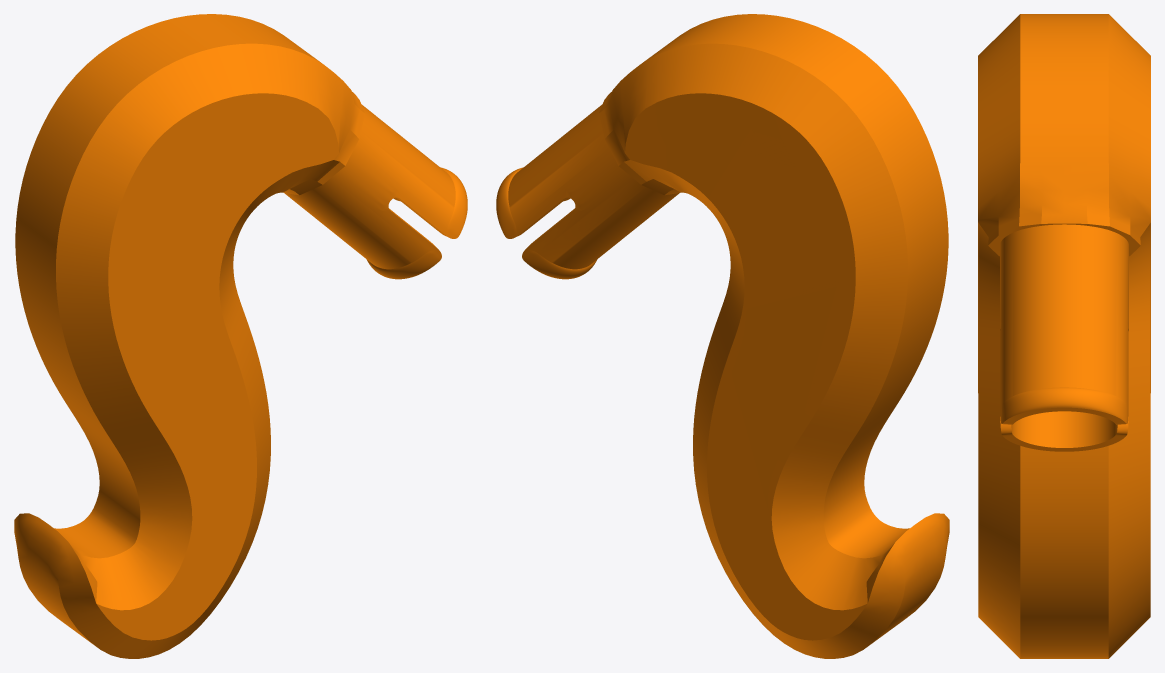
Rendered from Horse Tail.glb.
3 renders of one model, left to right at view 1: azimuth 30°, elevation 25°; view 2: azimuth 150°, elevation 25°; view 3: azimuth 270°, elevation 25°, orthographic. The views are drawn at different scales.
Parts seen in each view (by area): view 1: Horse Tail; view 2: Horse Tail; view 3: Horse Tail.
Part boxes in pixels (x1,y1,x2,y2): Horse Tail: [14, 14, 467, 658]; Horse Tail: [496, 14, 949, 658]; Horse Tail: [978, 14, 1150, 658].
Bounding box in the file's own units: 0.0247 × 0.0333 × 0.00802.
